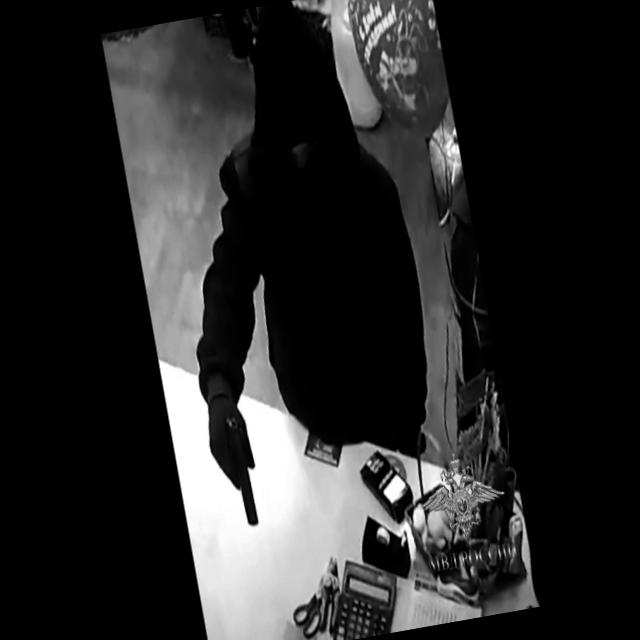gun: (198, 384, 270, 537)
person with a gun: (144, 34, 452, 534)
